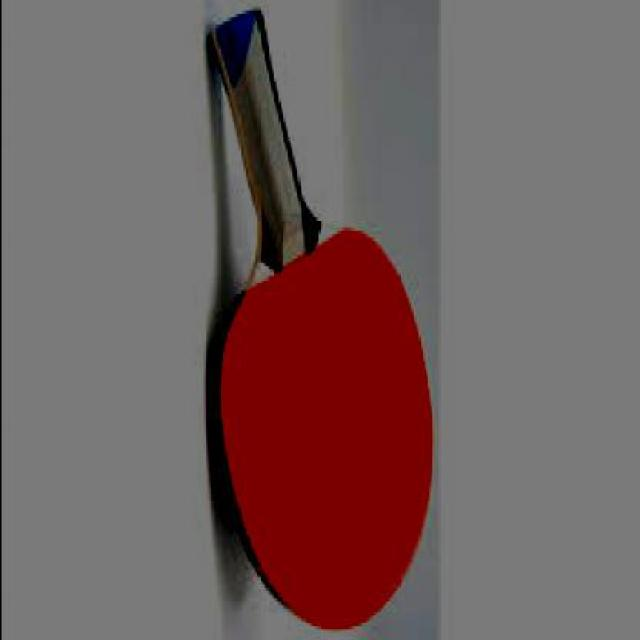table_tennis_racket: (209, 215, 436, 633)
